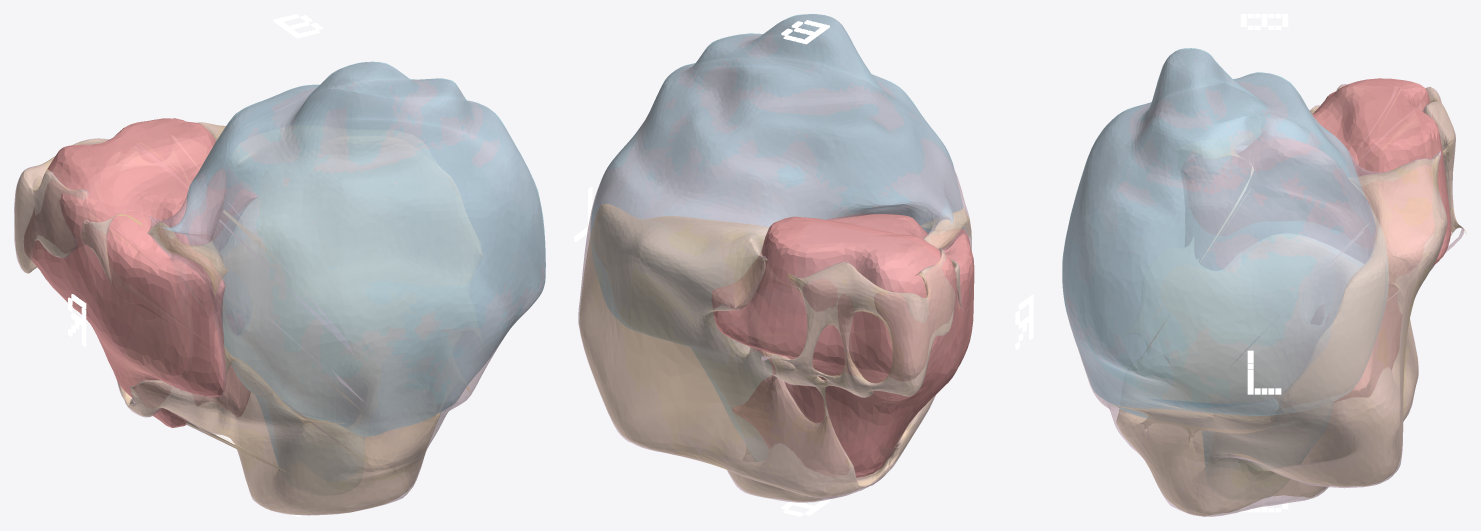
The picture shows the model from 3 angles, left to right: view 1: azimuth 30°, elevation 25°; view 2: azimuth 150°, elevation 25°; view 3: azimuth 270°, elevation 25°; orthographic projection.
Visible parts, largest first — view 1: prostate_gland, transition_zone, lesion_01, peripheral_zone; view 2: prostate_gland, peripheral_zone, transition_zone, lesion_01, pv_ar_marker_B, pv_ar_marker_R; view 3: prostate_gland, transition_zone, peripheral_zone, lesion_01, pv_ar_marker_B, pv_ar_marker_L.
Part boxes in pixels (<box>): prostate_gland: <box>14,62,545,515</box>; transition_zone: <box>162,61,545,464</box>; lesion_01: <box>24,118,258,427</box>; peripheral_zone: <box>15,122,483,514</box>; prostate_gland: <box>578,14,971,502</box>; peripheral_zone: <box>579,204,971,501</box>; transition_zone: <box>590,14,968,448</box>; lesion_01: <box>711,213,974,477</box>; pv_ar_marker_B: <box>781,20,829,44</box>; pv_ar_marker_R: <box>1015,295,1033,349</box>; prostate_gland: <box>1062,49,1464,516</box>; transition_zone: <box>1062,48,1388,497</box>; peripheral_zone: <box>1103,85,1466,515</box>; lesion_01: <box>1181,78,1451,402</box>; pv_ar_marker_B: <box>1240,14,1288,29</box>; pv_ar_marker_L: <box>1247,350,1281,394</box>.
Size of the model in its own units: 0.0736 by 0.0756 by 0.0573.
